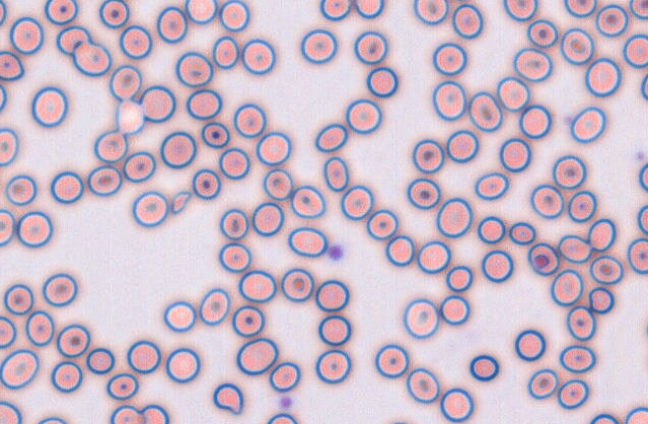PLT: (329, 244, 345, 261), (278, 395, 294, 410)
RBC: (0, 348, 39, 389), (236, 337, 278, 375), (31, 86, 68, 127), (435, 197, 472, 238), (584, 57, 621, 97), (403, 298, 439, 338), (431, 80, 467, 120), (131, 190, 169, 227), (16, 210, 53, 248), (569, 105, 606, 143), (72, 40, 111, 76), (512, 47, 552, 82), (468, 91, 502, 132), (139, 85, 176, 122), (160, 130, 196, 168), (175, 51, 213, 87), (345, 98, 382, 134), (300, 28, 337, 64), (9, 16, 44, 54), (238, 269, 277, 303), (315, 348, 351, 384), (550, 268, 584, 306), (560, 27, 594, 65), (165, 347, 200, 383), (255, 131, 291, 166), (287, 226, 327, 257), (126, 339, 161, 374), (374, 343, 409, 378), (405, 367, 439, 403), (241, 38, 275, 74), (109, 64, 142, 101), (496, 76, 530, 111), (280, 267, 314, 302), (552, 154, 586, 189), (530, 183, 564, 218), (42, 272, 77, 306), (353, 30, 388, 64), (340, 184, 373, 220), (233, 102, 266, 138), (185, 88, 222, 120), (199, 287, 230, 325), (156, 5, 187, 43), (56, 323, 90, 357), (518, 104, 552, 138), (440, 387, 473, 422), (251, 201, 284, 236), (290, 185, 325, 218), (416, 240, 451, 273), (314, 279, 349, 312), (119, 24, 152, 59), (411, 138, 444, 173), (432, 42, 467, 75), (93, 130, 127, 163), (446, 129, 479, 163), (87, 164, 122, 196), (451, 3, 483, 38), (499, 137, 531, 172), (231, 304, 264, 337), (595, 4, 628, 37), (50, 170, 83, 203), (317, 314, 351, 346), (122, 150, 156, 182), (406, 177, 440, 209), (566, 305, 596, 341), (559, 344, 596, 373), (50, 360, 82, 393), (163, 300, 196, 332), (527, 242, 559, 275), (481, 249, 513, 282), (25, 310, 54, 346), (366, 208, 398, 240), (218, 147, 250, 179), (218, 242, 251, 273), (589, 254, 623, 284), (314, 122, 348, 152), (474, 171, 509, 200), (268, 361, 300, 392), (557, 378, 589, 409), (5, 174, 37, 205), (218, 0, 250, 31), (262, 168, 293, 200), (514, 329, 545, 361), (366, 66, 398, 97), (557, 234, 591, 263), (439, 294, 470, 325), (527, 368, 558, 399), (3, 283, 33, 315), (385, 234, 415, 266), (526, 18, 558, 48), (567, 190, 597, 222), (219, 208, 249, 240), (587, 218, 616, 251), (191, 168, 221, 199), (212, 35, 239, 69), (323, 156, 349, 191), (106, 372, 138, 400), (622, 33, 647, 68), (98, 0, 129, 28), (413, 0, 448, 24), (44, 0, 77, 25), (477, 215, 505, 244), (469, 354, 499, 381), (200, 121, 230, 148), (184, 0, 217, 24), (445, 264, 473, 292), (86, 347, 115, 374), (626, 237, 647, 274), (0, 50, 24, 81), (503, 0, 537, 21), (0, 127, 18, 166), (588, 286, 614, 313), (508, 221, 535, 245), (110, 404, 143, 423), (319, 0, 350, 20), (0, 208, 15, 246), (563, 0, 596, 17), (140, 404, 169, 423), (354, 0, 384, 18), (0, 315, 16, 348), (0, 400, 22, 423), (624, 406, 647, 423), (266, 412, 298, 423), (629, 0, 647, 19), (637, 204, 647, 235), (589, 413, 619, 423), (638, 162, 647, 192), (36, 416, 67, 423), (0, 83, 7, 111), (640, 72, 647, 100), (0, 0, 7, 26)
Schistocyte: (55, 26, 91, 55), (215, 384, 241, 414), (170, 190, 193, 214)
